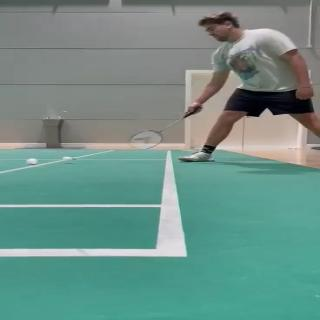Shuttle: (25, 157, 38, 165), (63, 156, 77, 162)
